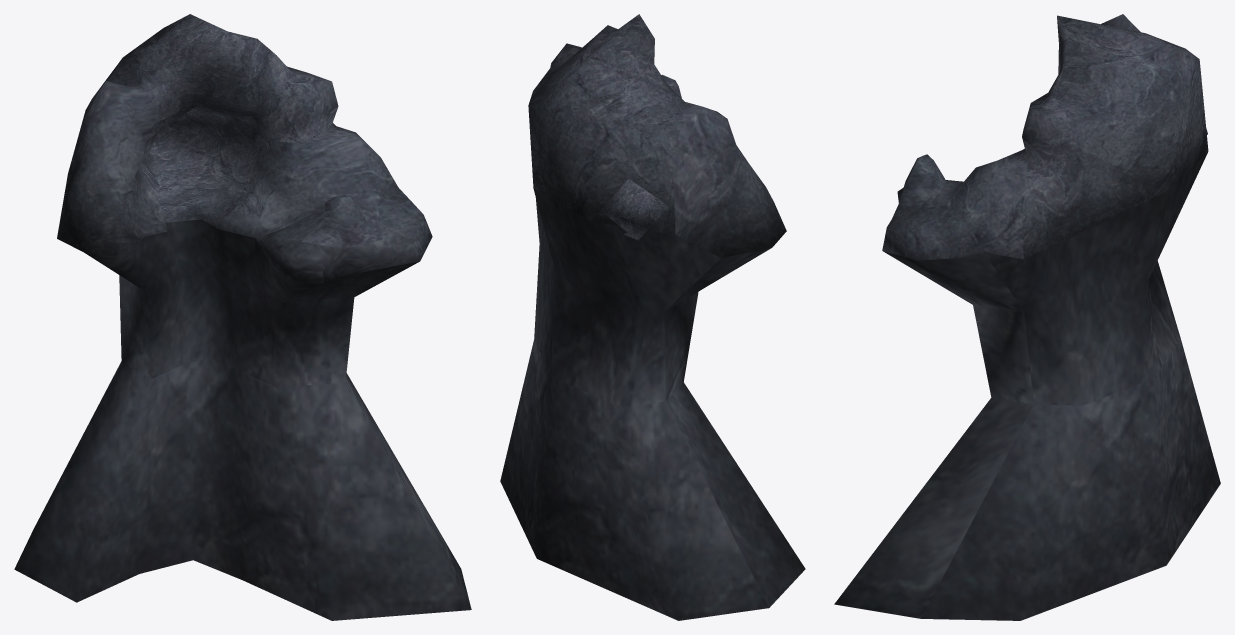
Rendered from tlfb2_dongkou.FBX.
The picture shows the model from 3 angles, left to right: view 1: azimuth 30°, elevation 25°; view 2: azimuth 150°, elevation 25°; view 3: azimuth 270°, elevation 25°; orthographic projection.
Visible parts, largest first — view 1: tlfb2_dongkou; view 2: tlfb2_dongkou; view 3: tlfb2_dongkou.
Part boxes in pixels (x1,y1,x2,y2): tlfb2_dongkou: (14, 14, 471, 620); tlfb2_dongkou: (500, 14, 805, 620); tlfb2_dongkou: (834, 14, 1220, 620).
Bounding box in the file's own units: 4403 × 6580 × 4372.
